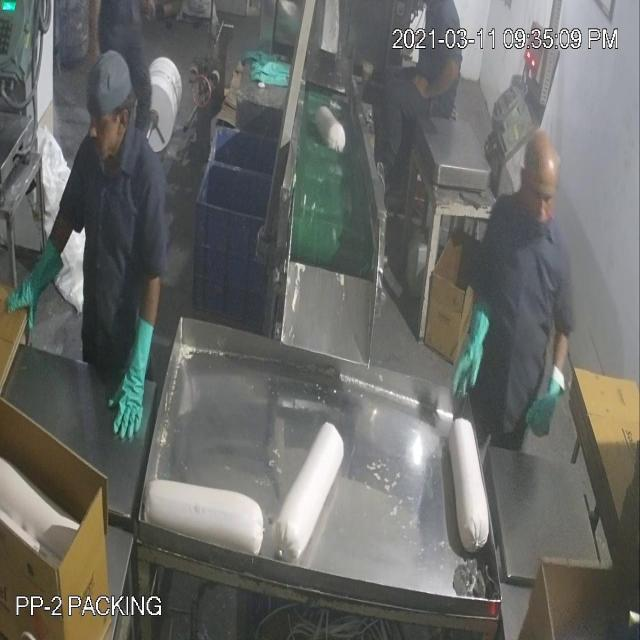Gloves: (42, 54, 462, 370)
